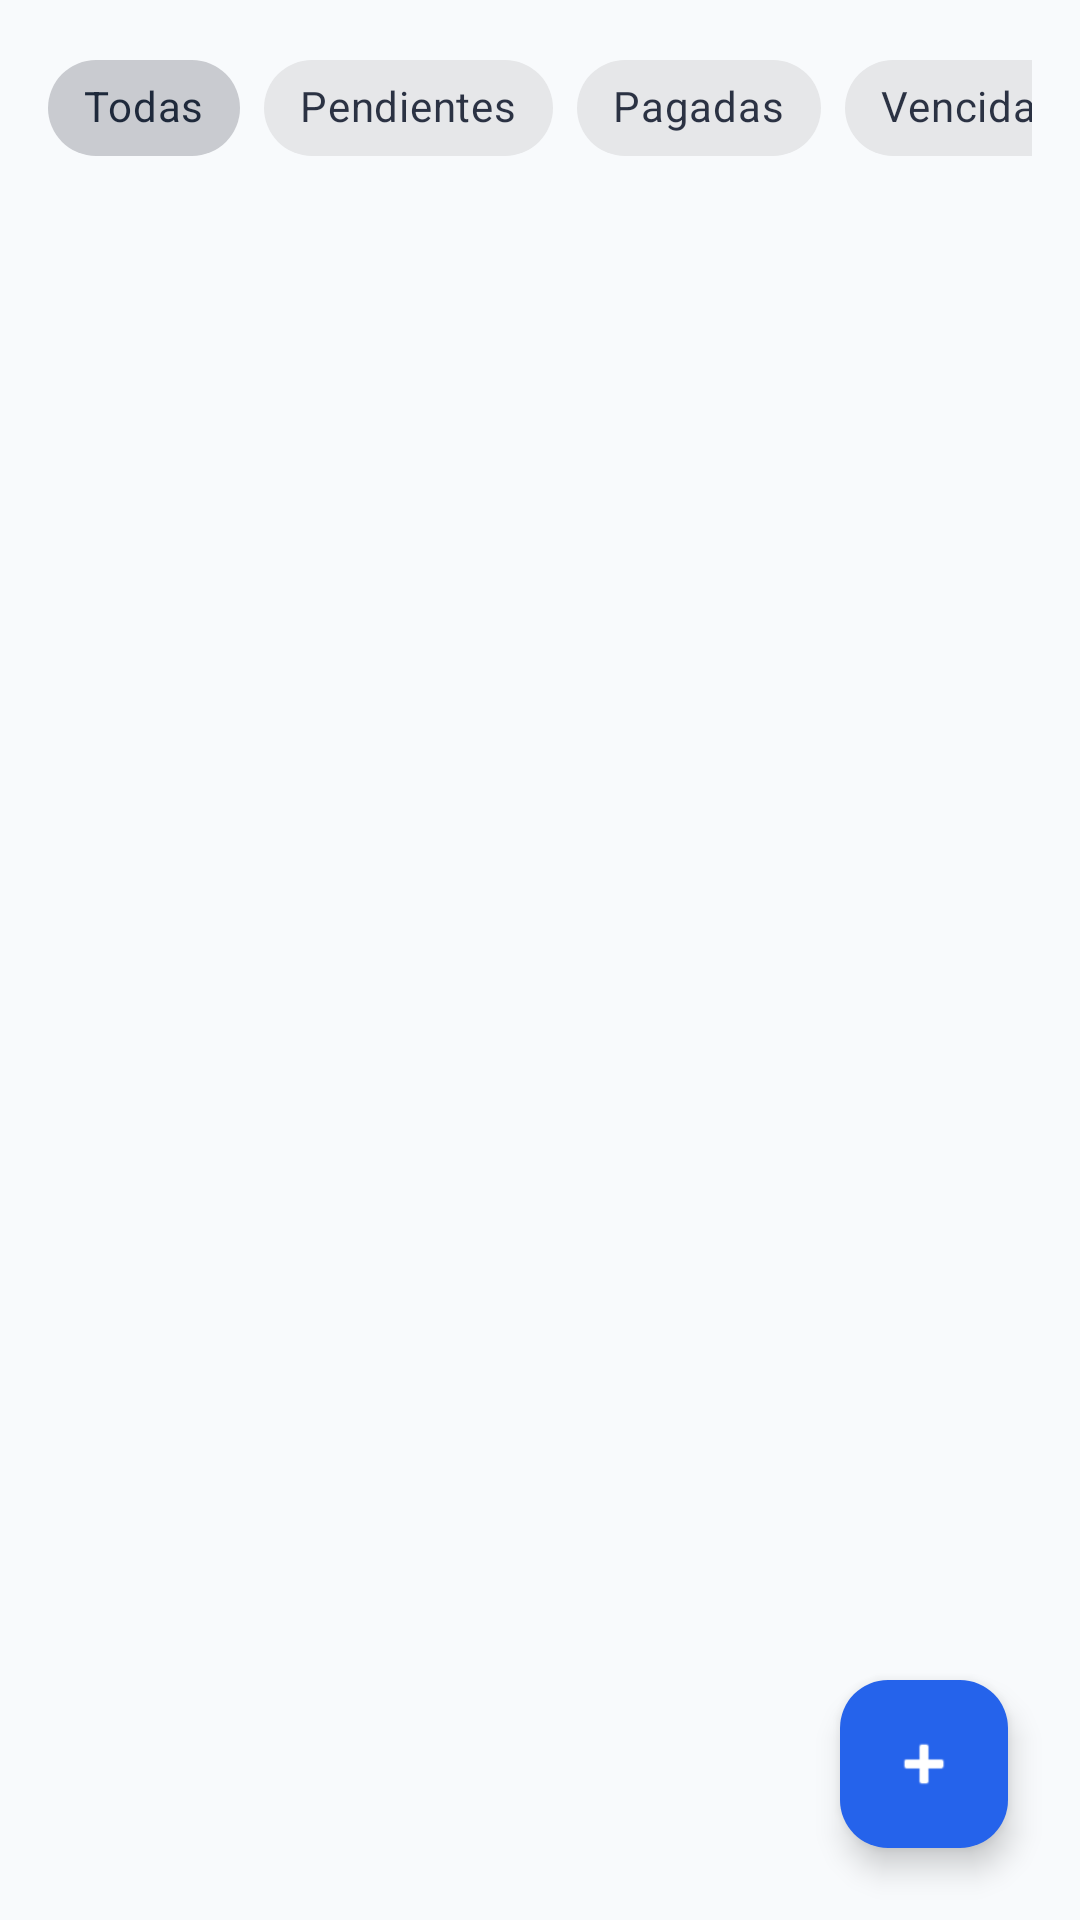

Where icons sit on this 1080*1920 app screen, as (x1, y1, x2, y2):
Nueva Factura: (840, 1680, 1008, 1848)
